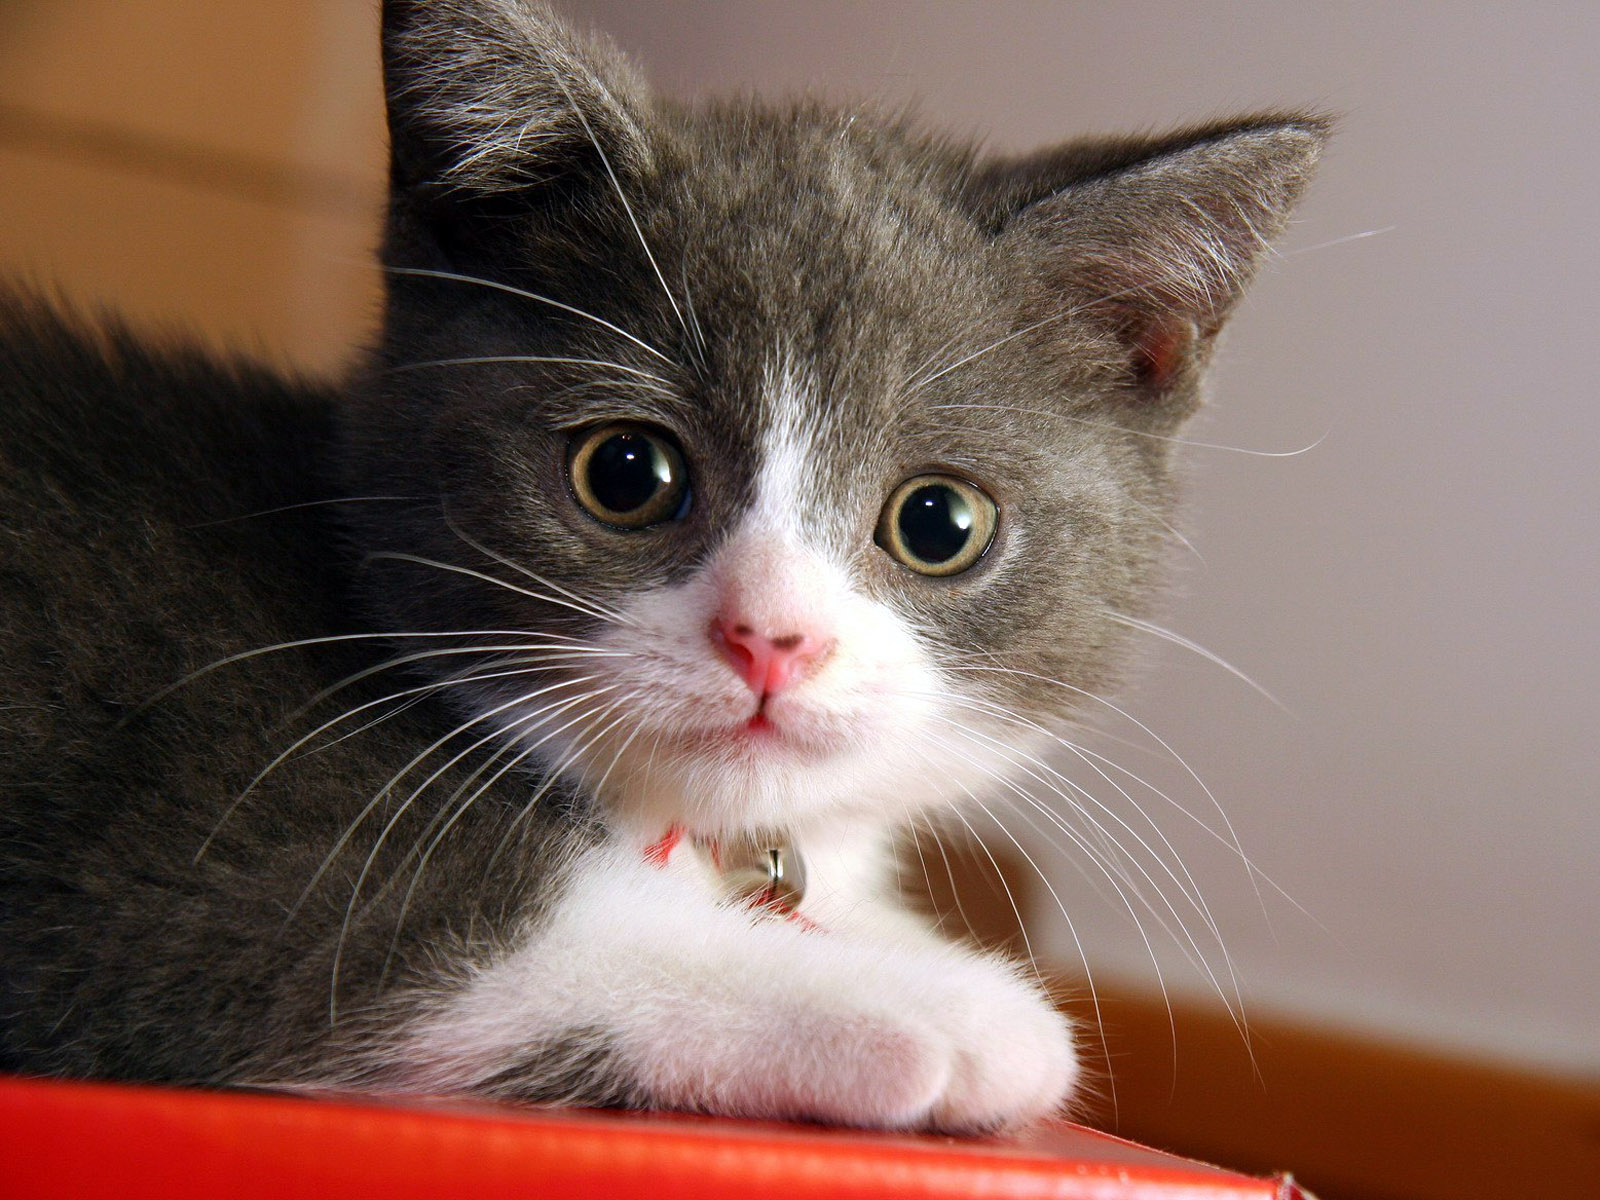cat: (190, 14, 1339, 1133)
